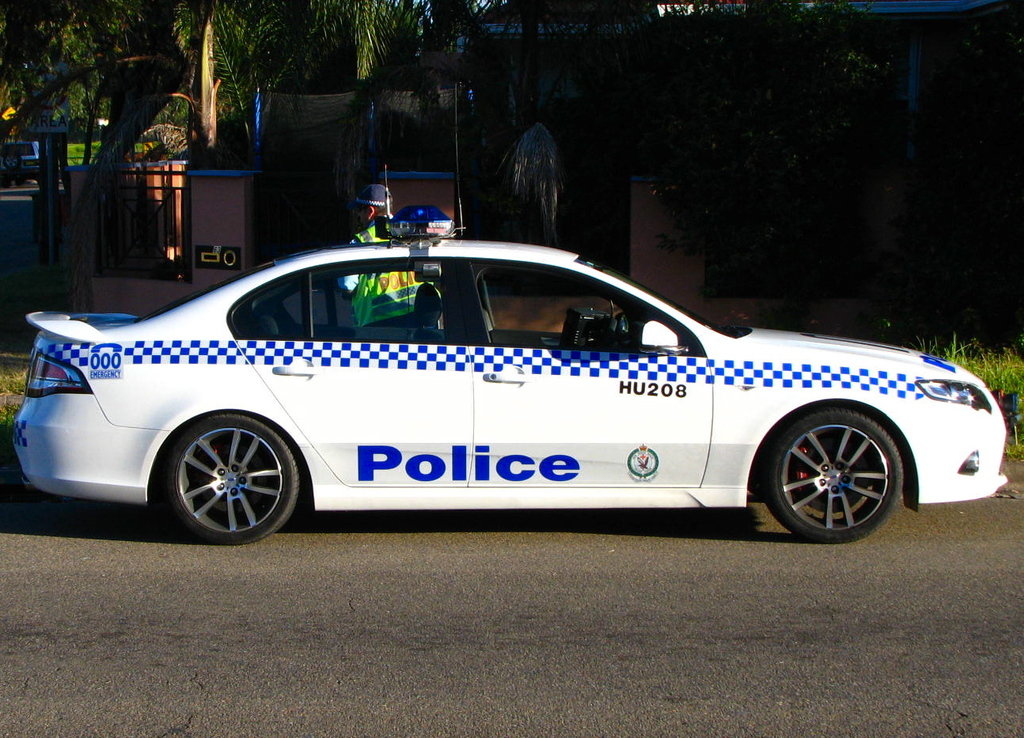car: (16, 228, 1020, 551)
